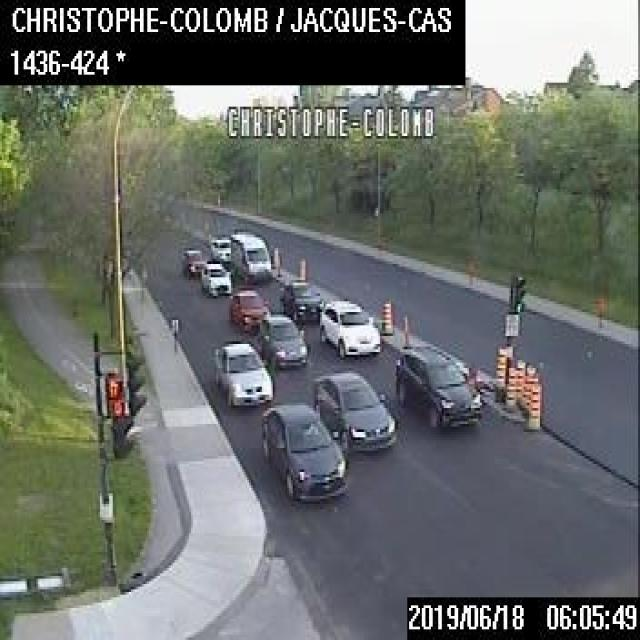construction: (523, 381, 540, 430), (519, 361, 535, 407), (523, 373, 537, 414), (504, 364, 516, 408), (493, 344, 504, 390), (513, 357, 524, 402), (378, 299, 391, 333), (398, 314, 409, 346), (594, 295, 603, 326), (296, 251, 306, 277), (465, 257, 473, 282), (270, 242, 278, 266)
pedestrian: (258, 333, 276, 392)
vehicle: (260, 400, 346, 500), (393, 338, 480, 426), (313, 368, 394, 448), (212, 339, 272, 405), (318, 297, 379, 356), (258, 311, 306, 365), (229, 229, 270, 281), (228, 287, 269, 332), (282, 278, 323, 320), (199, 260, 231, 294), (182, 247, 206, 277), (209, 235, 231, 261)
